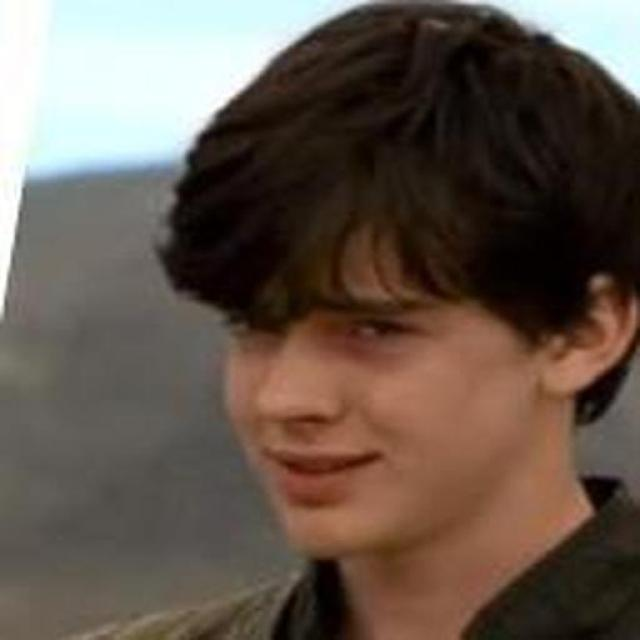bareface: (206, 82, 608, 560)
